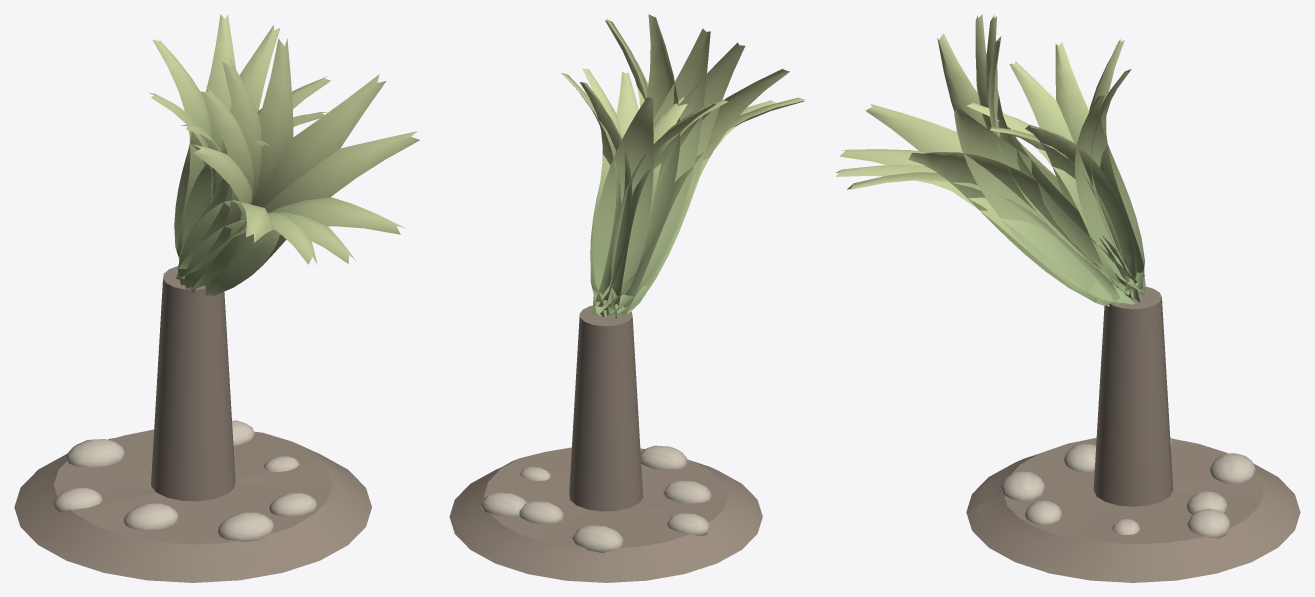
Rendered from kowhai-hero-nat-03.glb.
3 renders of one model, left to right at view 1: azimuth 30°, elevation 25°; view 2: azimuth 150°, elevation 25°; view 3: azimuth 270°, elevation 25°, orthographic. The views are drawn at different scales.
Visible parts, largest first — view 1: SubPart (×6), SilverFern_InstancedFronds, SilverFern_FibrousTrunk; view 2: SubPart (×7), SilverFern_InstancedFronds, SilverFern_FibrousTrunk; view 3: SilverFern_InstancedFronds, SubPart (×7), SilverFern_FibrousTrunk.
Boxes of the visible parts, <box> form: SubPart (×6): <box>14,429,371,582</box>; SilverFern_InstancedFronds: <box>148,14,419,295</box>; SilverFern_FibrousTrunk: <box>151,266,235,501</box>; SubPart (×7): <box>449,445,762,582</box>; SilverFern_InstancedFronds: <box>562,14,805,318</box>; SilverFern_FibrousTrunk: <box>569,305,643,511</box>; SilverFern_InstancedFronds: <box>835,14,1145,306</box>; SubPart (×7): <box>966,438,1300,582</box>; SilverFern_FibrousTrunk: <box>1093,286,1173,506</box>.
Bounding box in the file's own units: 0.88 × 1.4 × 1.22.
Materials: 3 (1 with a texture image).
